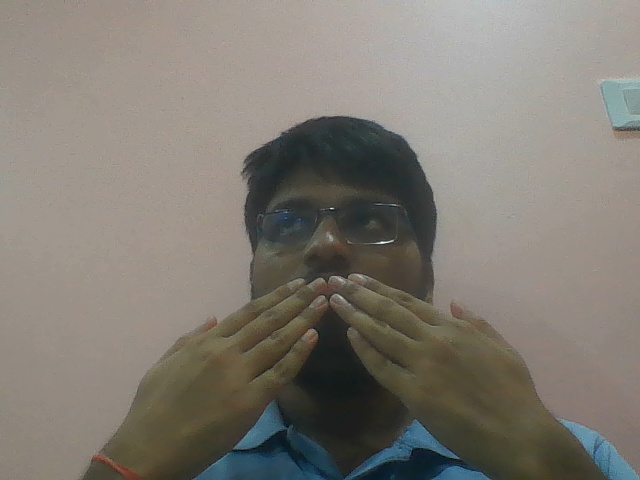thankyou: (124, 272, 572, 472)
